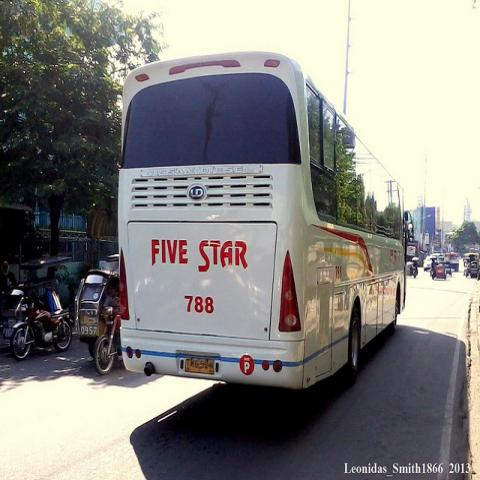bus: (120, 57, 409, 389)
car: (432, 264, 447, 282), (438, 260, 451, 277), (448, 258, 459, 272), (422, 255, 431, 272), (432, 256, 437, 261)
motorcycle: (72, 252, 121, 387), (9, 283, 73, 364), (411, 265, 417, 280), (431, 264, 436, 280)
